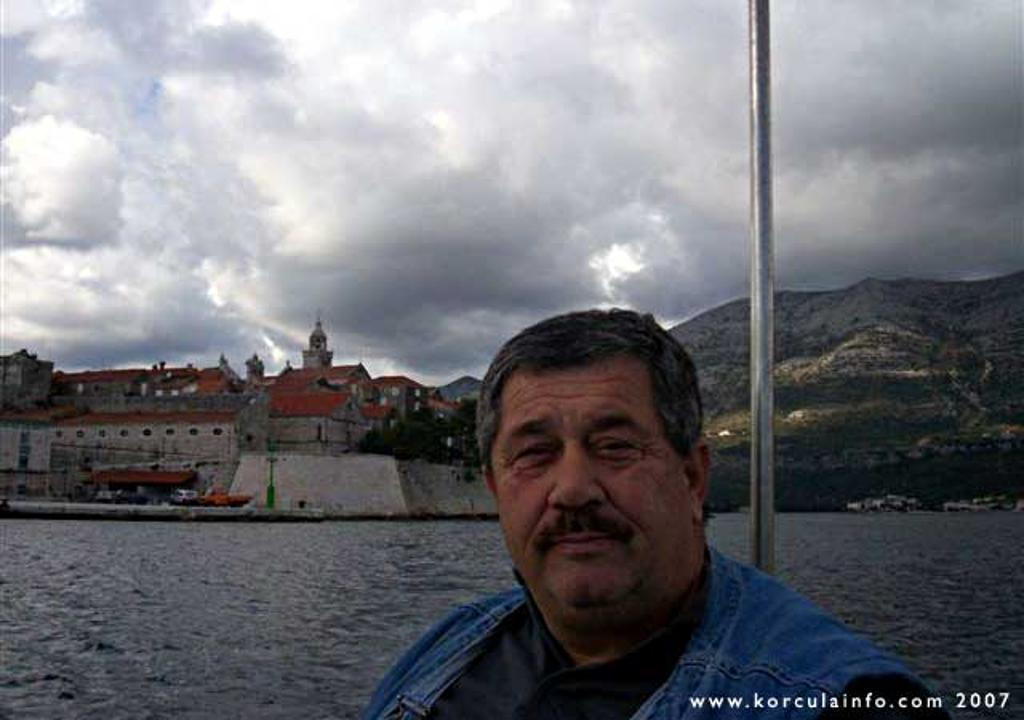face: (499, 379, 687, 613)
